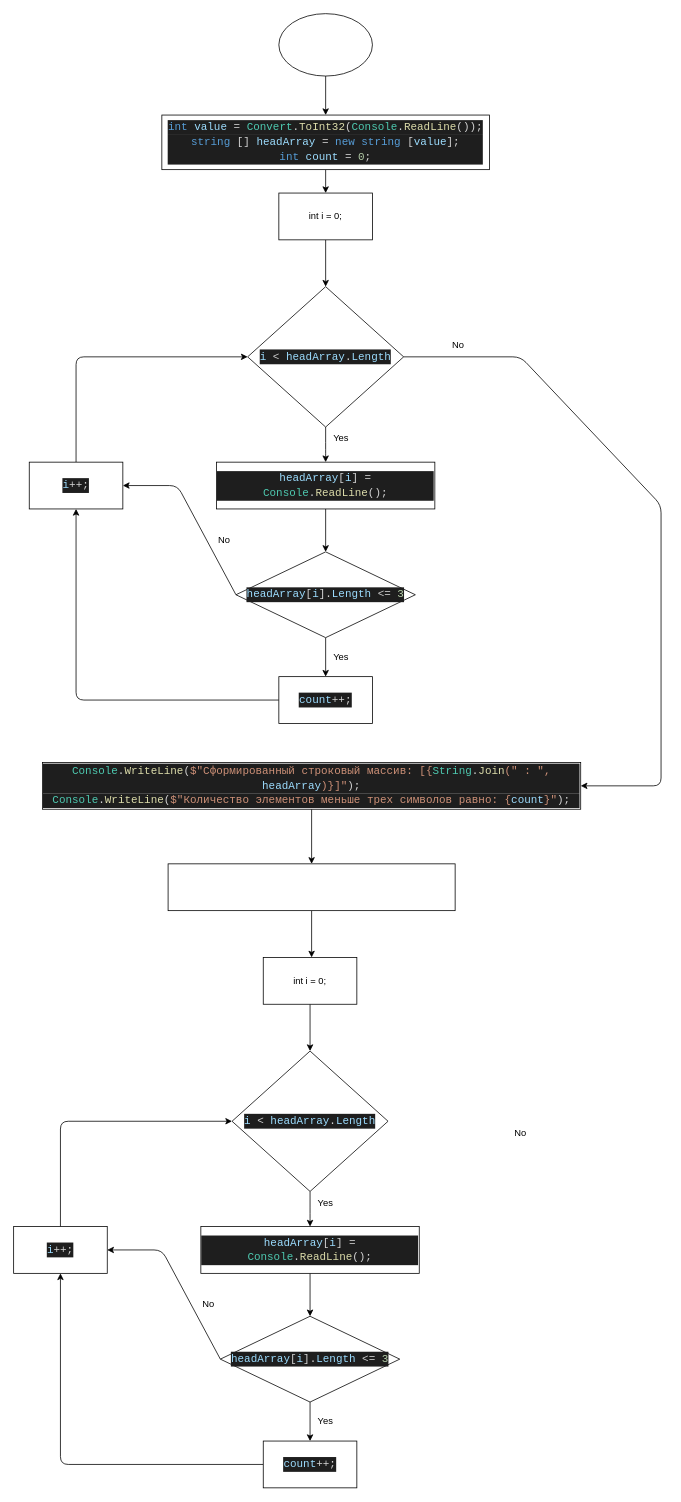
Some shapes in this 681 by 1502 pixel diagram are drawn without their labels. The shapes that lost their labels are listed below. From the top down, each one's centre as x and y in pixels, then its label:
point 325,44: Start программ
point 311,887: string [] newArray = new string [ count ]; int j = 0 ;
